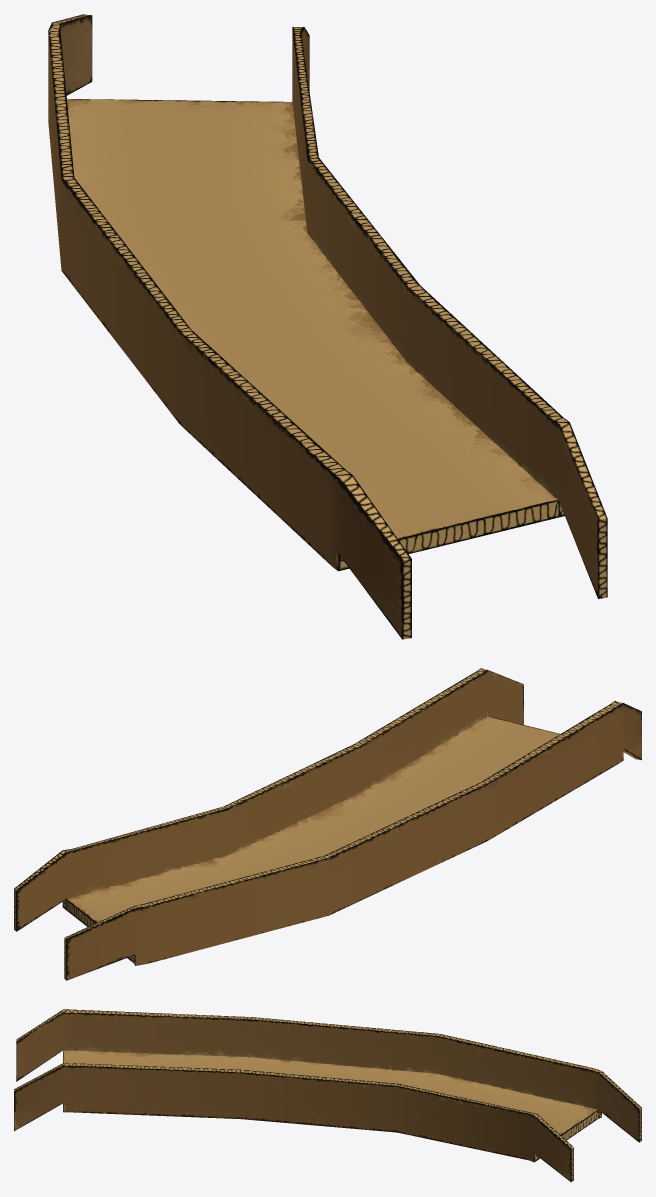
File: SM_Part7_Playtrack.fbx
3 renders of one model, top to bottom at view 1: azimuth 30°, elevation 25°; view 2: azimuth 150°, elevation 25°; view 3: azimuth 270°, elevation 25°, orthographic. The views are drawn at different scales.
Parts seen in each view (by area): view 1: Panel_7; view 2: Panel_7; view 3: Panel_7.
Part boxes in pixels (x1=…): Panel_7: x1=48, y1=14, x2=607, y2=639; Panel_7: x1=14, y1=668, x2=641, y2=980; Panel_7: x1=14, y1=1009, x2=641, y2=1182.
Size of the model in its own units: 5689 by 1548 by 12908.
